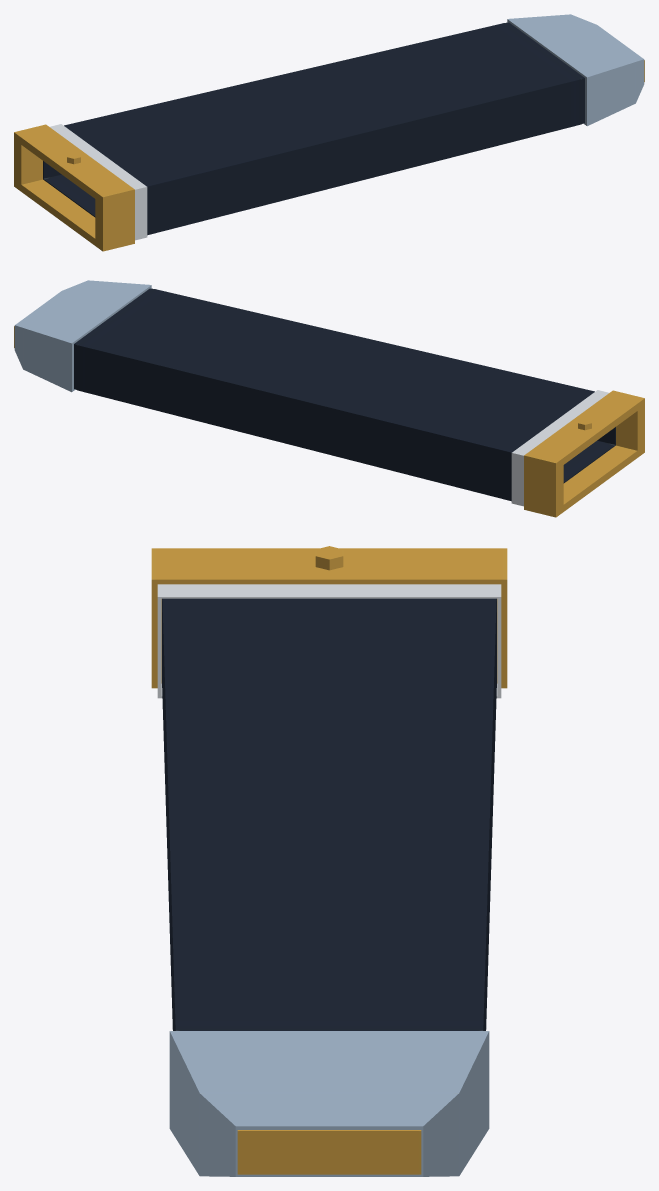
File: sheath.glb
3 renders of one model, top to bottom at view 1: azimuth 30°, elevation 25°; view 2: azimuth 150°, elevation 25°; view 3: azimuth 270°, elevation 25°, orthographic. The views are drawn at different scales.
Visible parts, largest first — view 1: shell, locket, chape; view 2: shell, locket, chape; view 3: shell, chape, locket.
Boxes of the visible parts, x1=… form: shell: x1=43, y1=22, x2=584, y2=235; locket: x1=14, y1=124, x2=147, y2=251; chape: x1=507, y1=14, x2=644, y2=126; shell: x1=74, y1=288, x2=615, y2=501; locket: x1=511, y1=390, x2=644, y2=517; chape: x1=14, y1=280, x2=151, y2=392; shell: x1=162, y1=598, x2=496, y2=1030; chape: x1=169, y1=1031, x2=489, y2=1176; locket: x1=151, y1=546, x2=507, y2=698.
Size of the model in its own units: 0.6515 by 0.072 by 0.178.
Materials: 4 (4 with a texture image).
